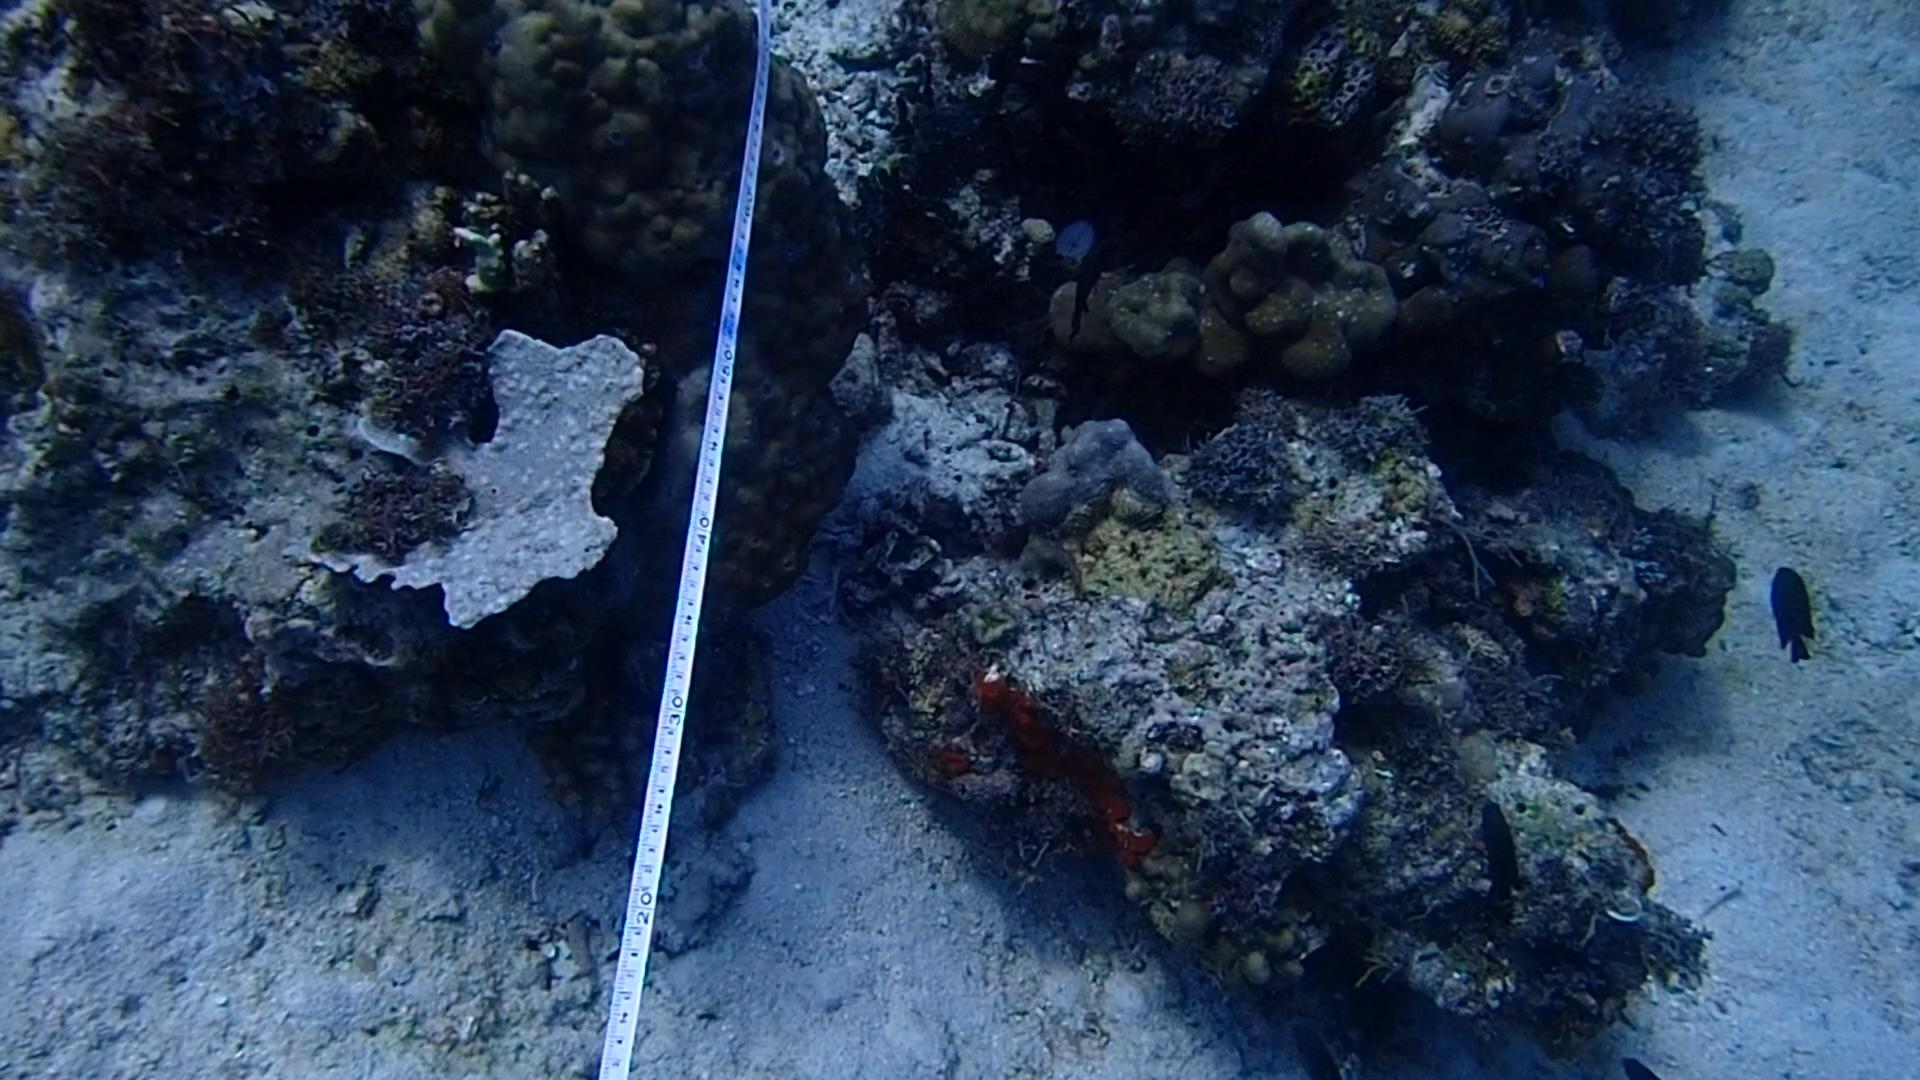Dark Fish: (1747, 560, 1832, 670), (1469, 786, 1530, 918), (1051, 232, 1134, 328)
